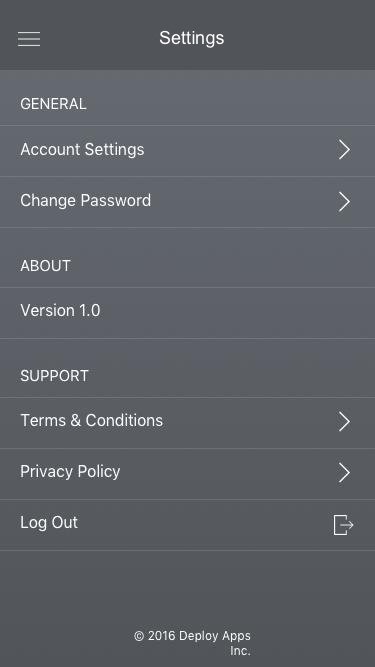Icon: (333, 514, 355, 536), (18, 31, 42, 48), (337, 190, 352, 213), (337, 138, 351, 162), (337, 461, 351, 484), (337, 410, 351, 433)
Text: (133, 628, 253, 656), (21, 193, 152, 211), (21, 142, 145, 160), (21, 412, 165, 427), (21, 463, 122, 481), (160, 30, 225, 50), (21, 302, 102, 318), (21, 515, 80, 532), (20, 370, 90, 383), (21, 98, 89, 111), (21, 259, 73, 273)
Toolbar: (1, 1, 375, 71)
